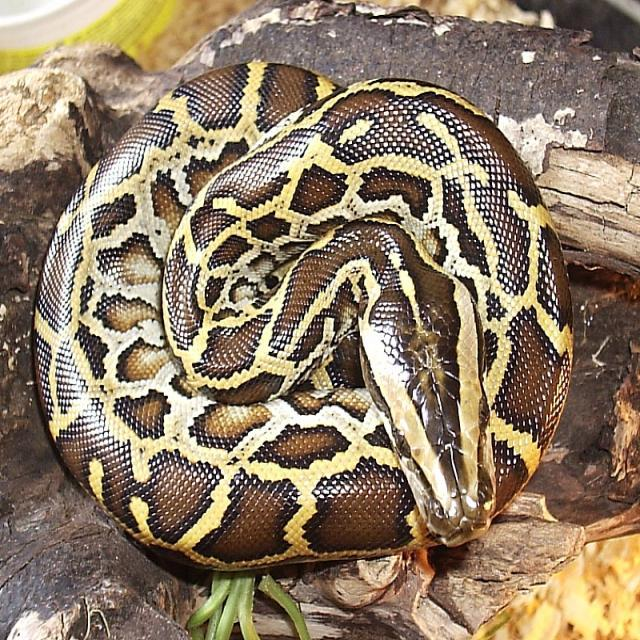Snake: (32, 58, 574, 636)
